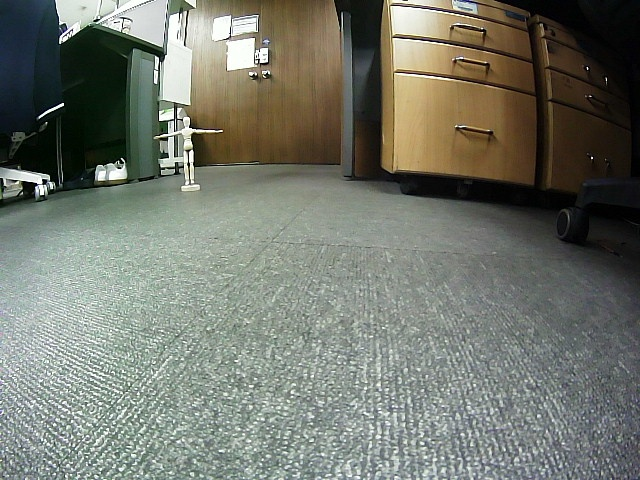person: (154, 117, 224, 184)
